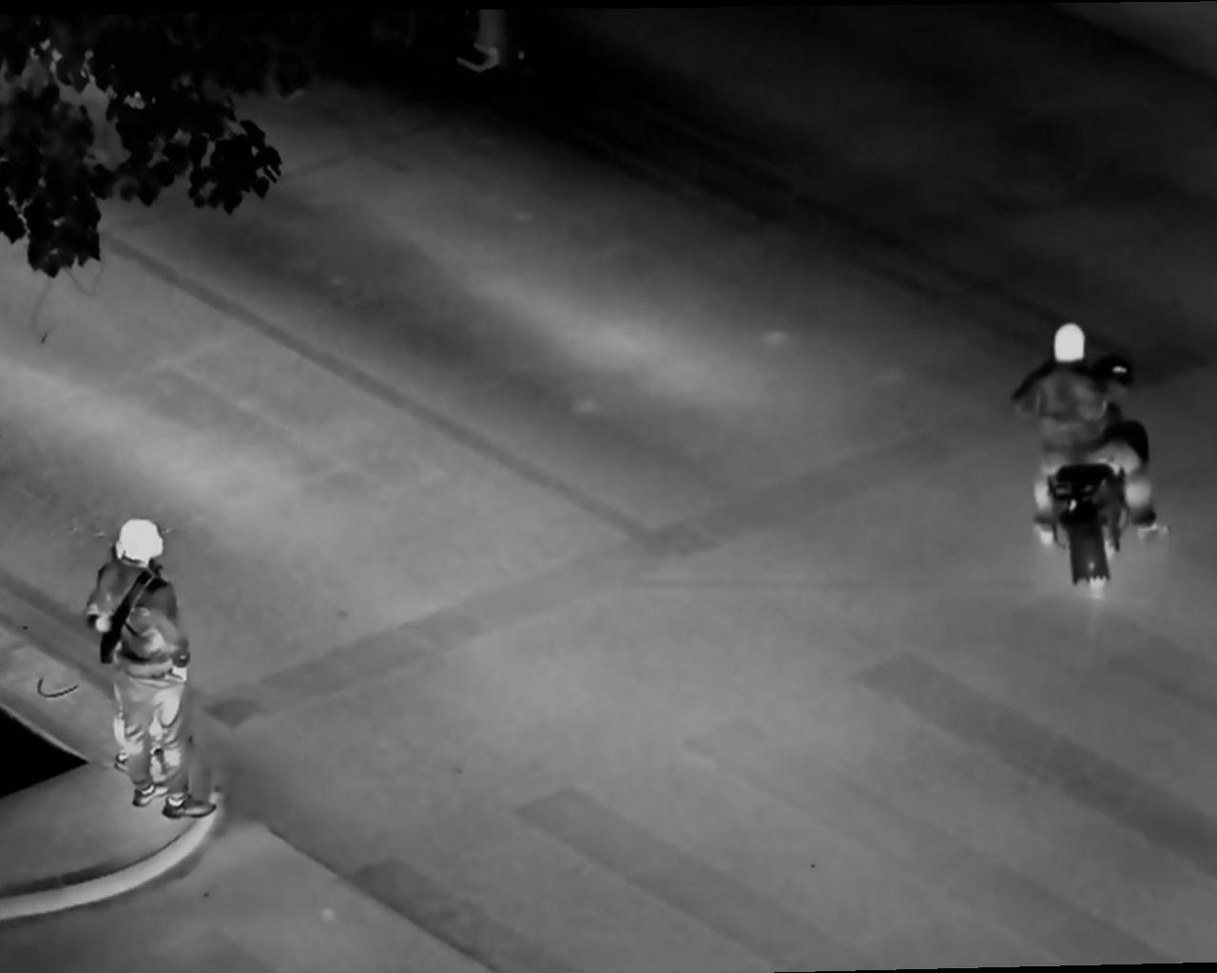person: (79, 514, 225, 817), (1022, 313, 1165, 556)
